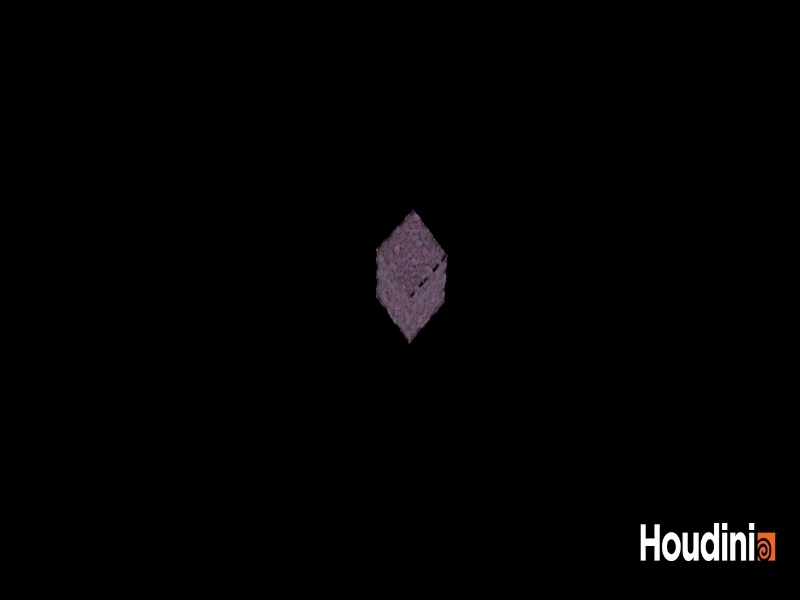waste: (370, 200, 457, 350)
